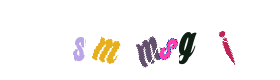G: (146, 0, 226, 80)
J: (156, 0, 236, 80)
M: (79, 0, 159, 80), (99, 0, 179, 80)
S: (66, 0, 146, 80), (113, 0, 193, 80)
